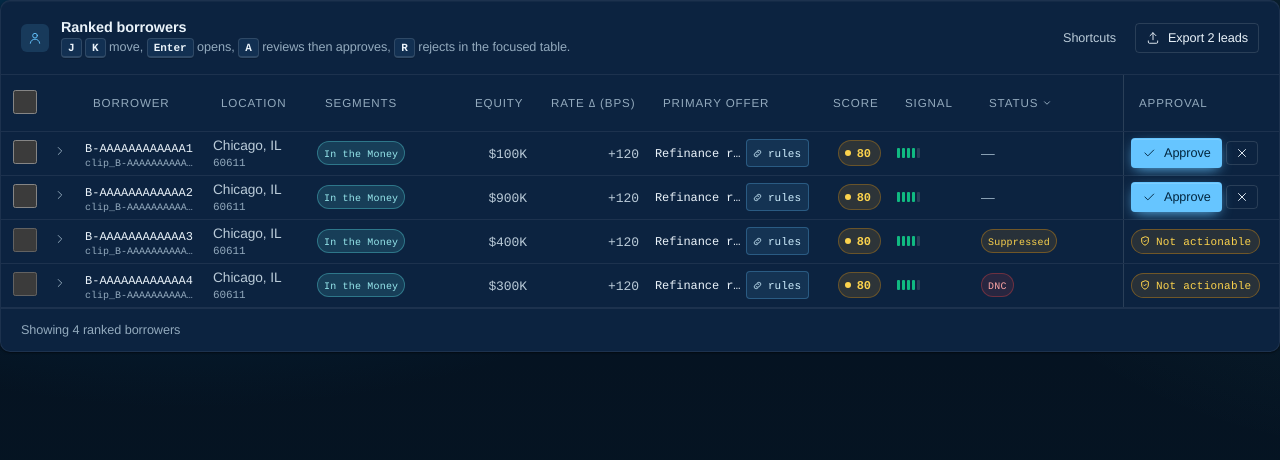
Test: LeadTable CSV export › exports the selection when one exists
What coordinates should you click on to do the following:
click the checkbox named "Select lead B-AAAAAAAAAAAA2"
I would click on:
 (25, 196)
Its box is 13,184 -> 37,208.
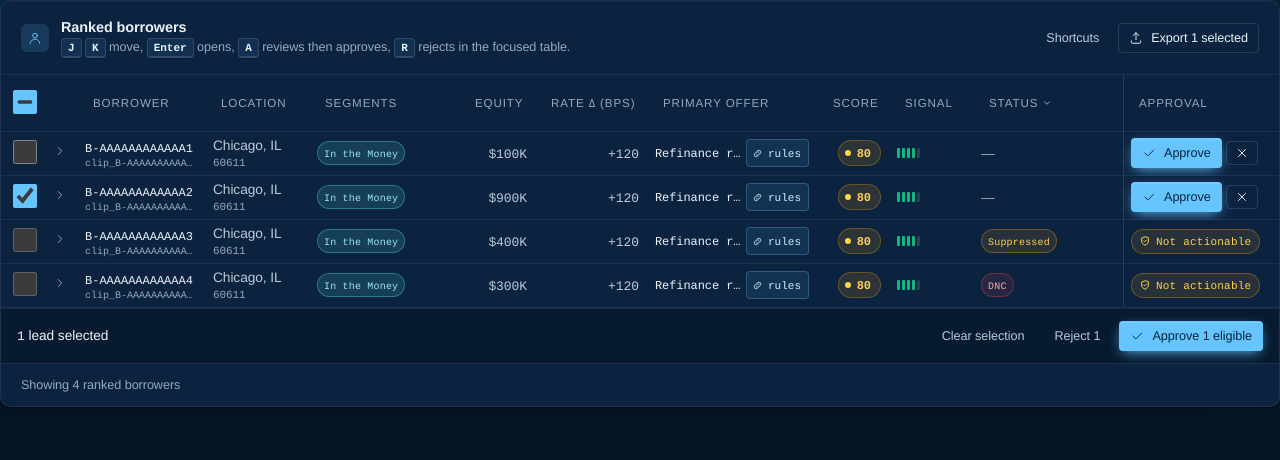
Check: the button with test id "lead-export" reads "Export 1 selected"
What coordinates should you click on to do the following:
click the button with test id "lead-export"
I would click on:
 (1189, 38)
Its box is 1118,23 -> 1259,53.
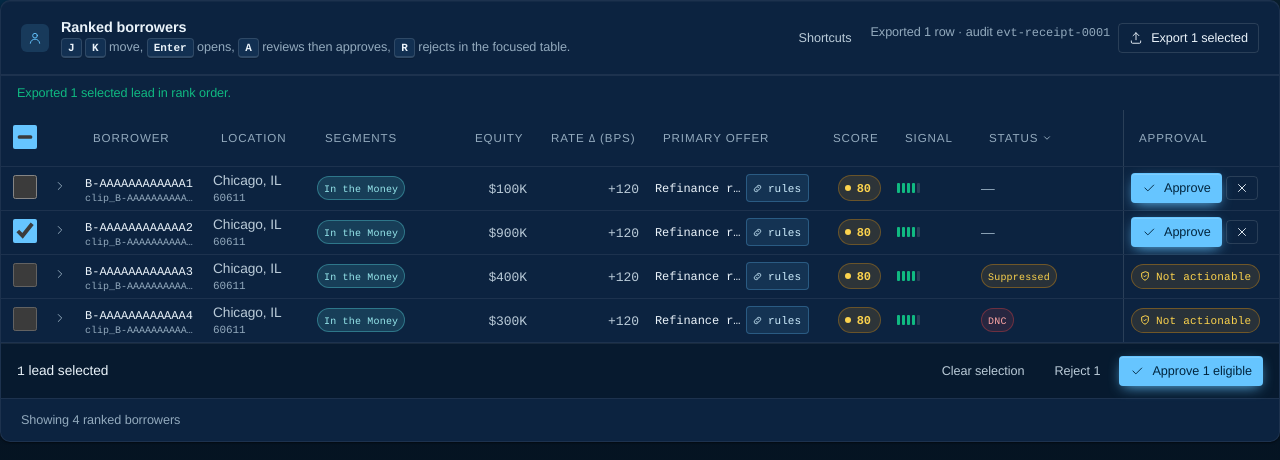
Check: the message with test id "lead-export-notice" reads "Exported 1 selected lead in rank order.", box 17,85 -> 231,101
